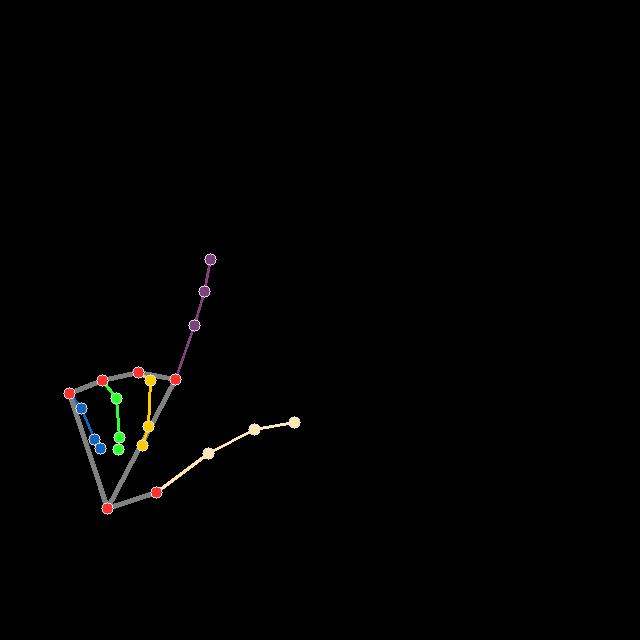gun: (56, 249, 305, 516)
